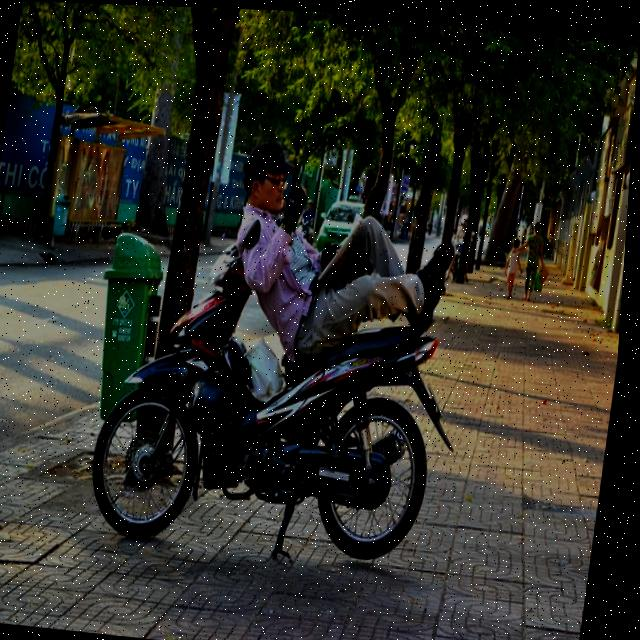motorcycle: (83, 236, 480, 585)
